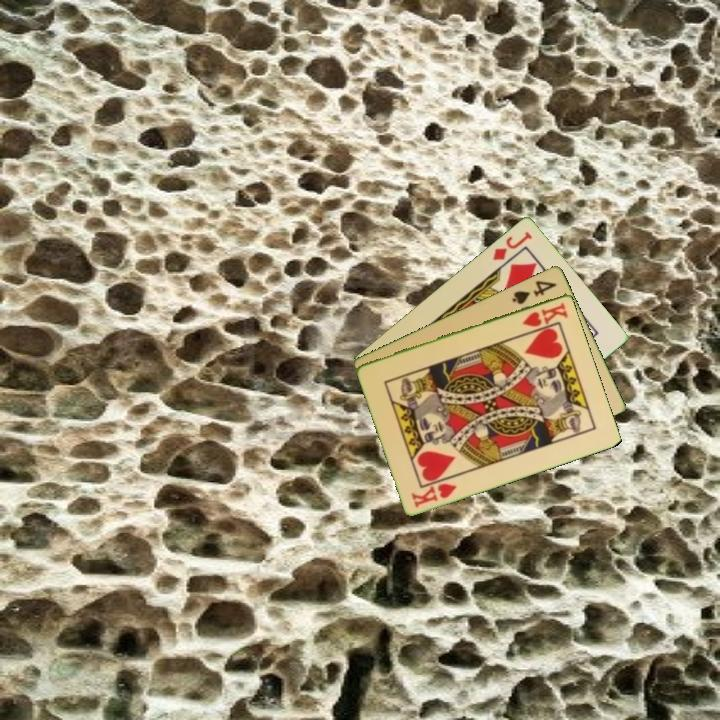4s: (508, 277, 560, 307)
Jd: (489, 228, 535, 263)
Kh: (519, 299, 571, 330), (408, 479, 460, 510)
